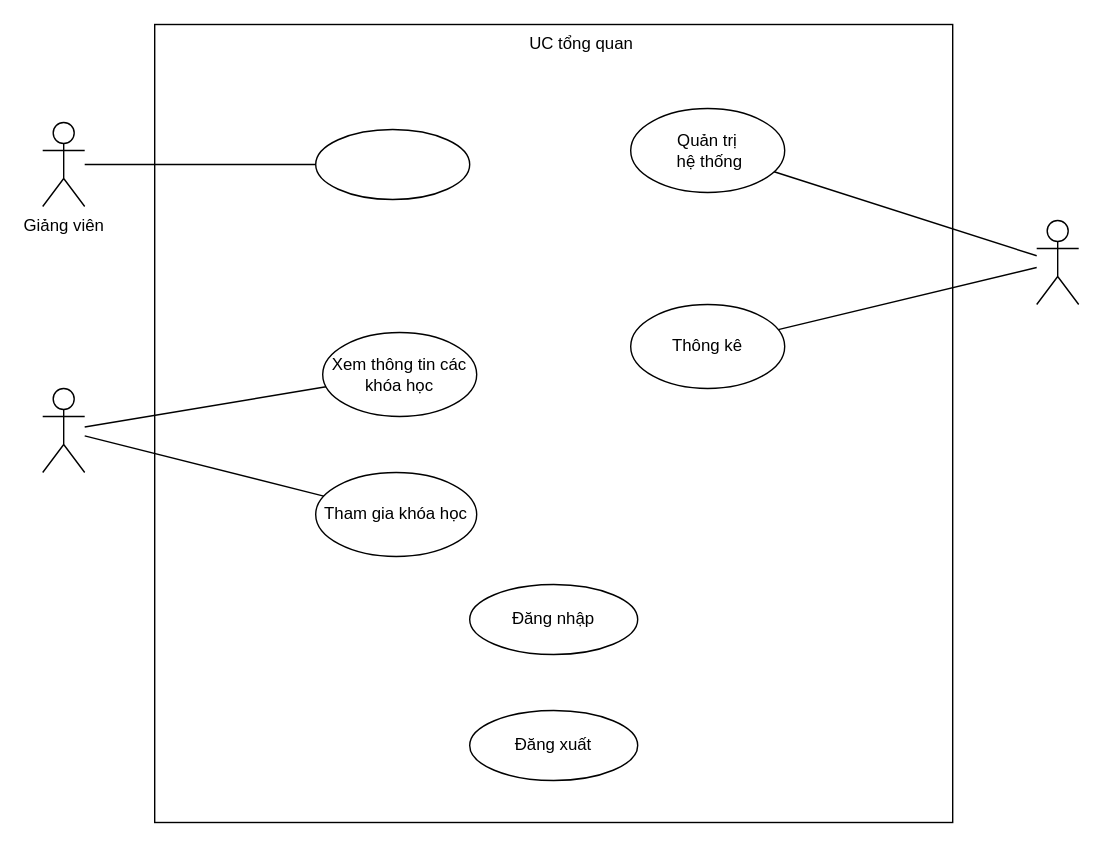
Some shapes in this 1106 by 847 pixel diagram are drawn without their labels. The centre of each missing label's shape, as x and y in pixels:
Admin: (x=1057, y=261)
Học viên: (x=63, y=429)
Quản lý khóa học: (x=392, y=164)
